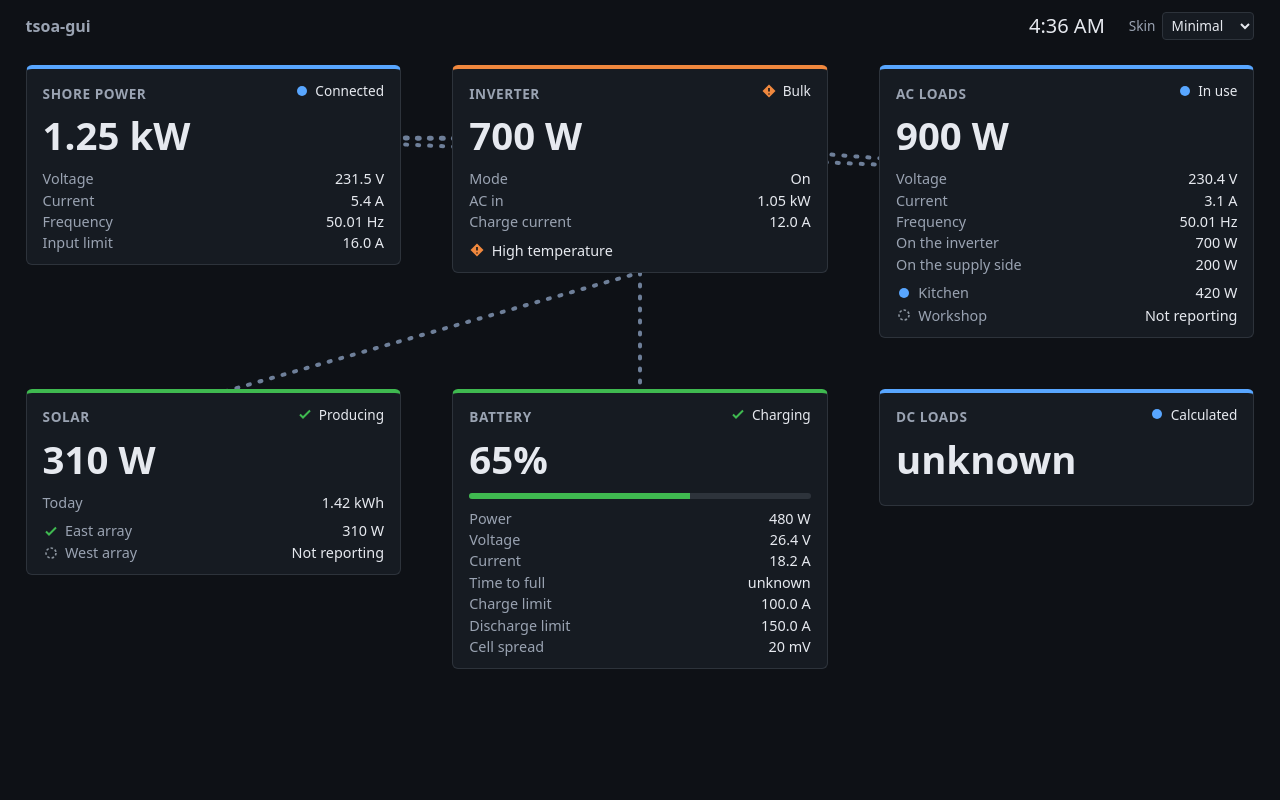
Test case: App › switches skins from the menu
Select "Sci-Fi FOF" in the dropdown labelled "Skin" at (1208, 26), box [1162,12,1254,40]
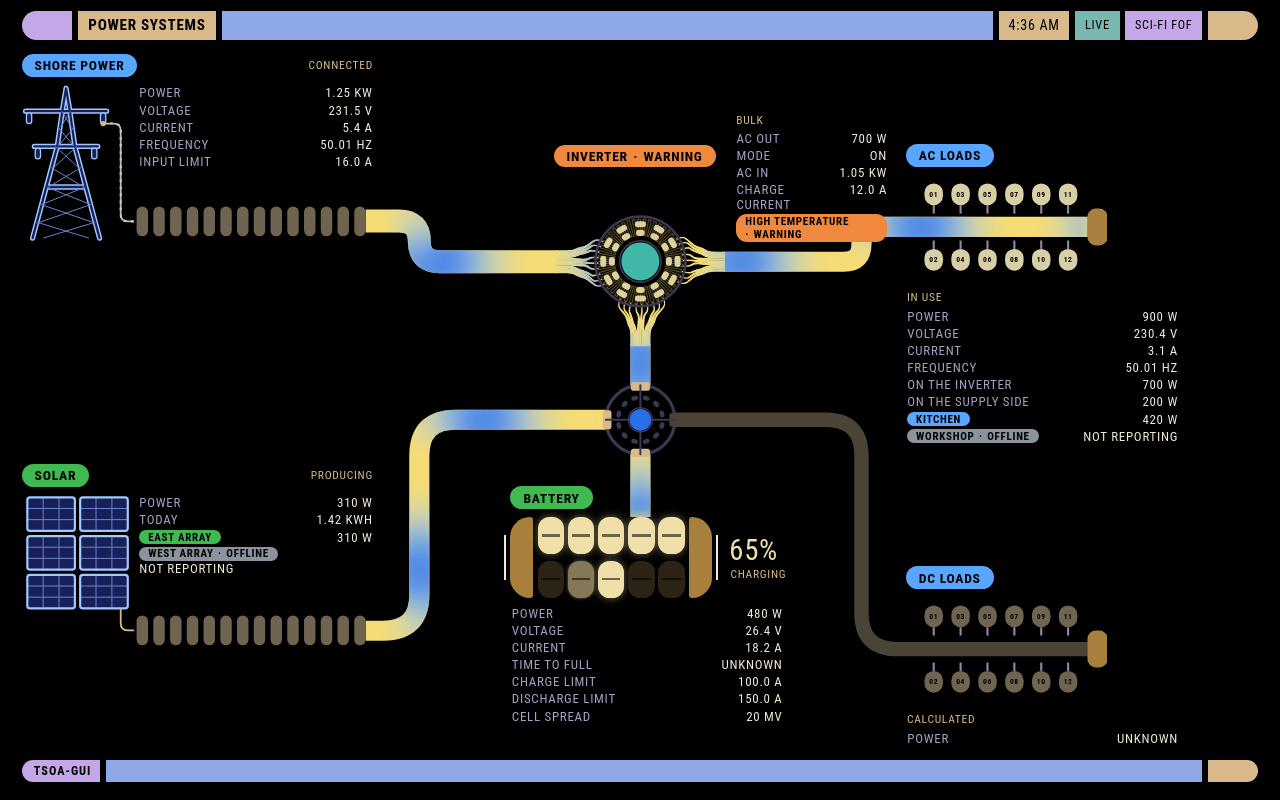
Expected: the element named "State of charge" is shown, [510,517,712,598]
